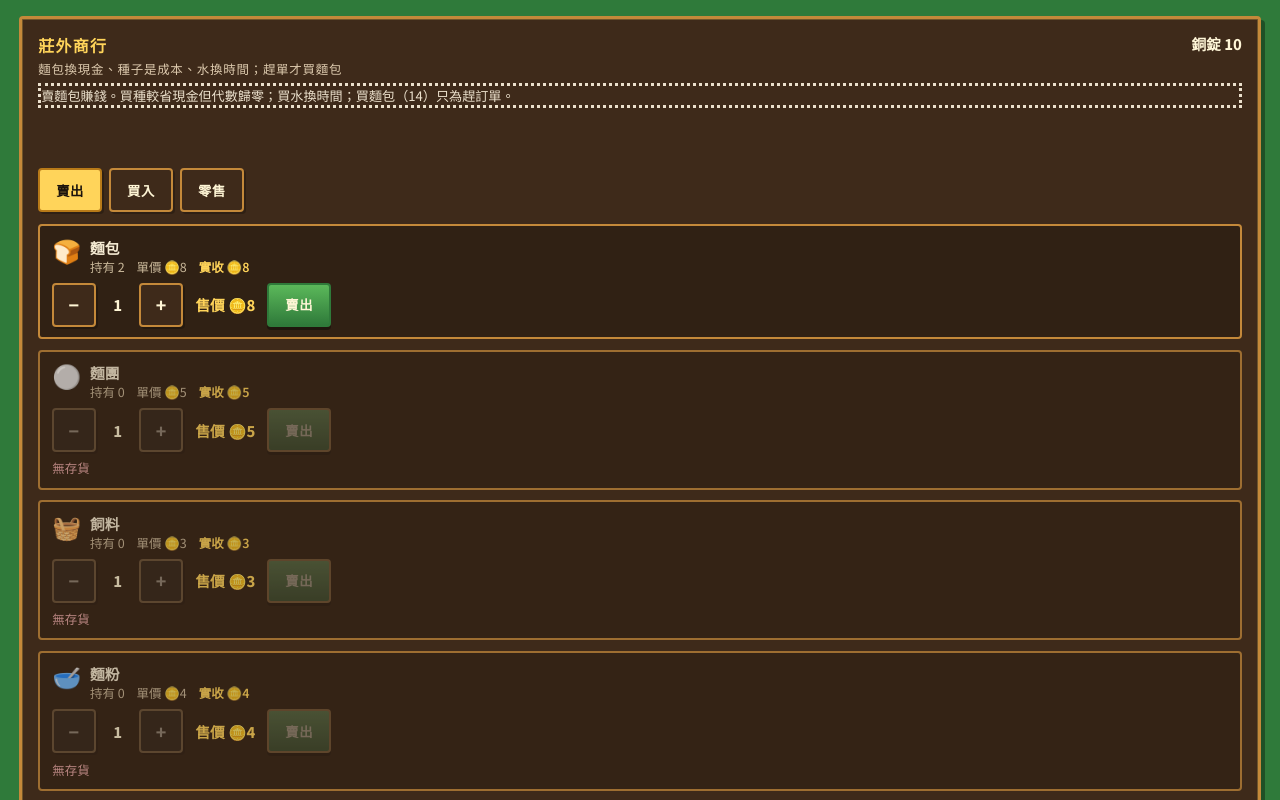
Test case: MarketPanel › shows retail empty states
Step 1. Click the tab with test id "market-tab-retail" → (212, 190), box [180,168,244,212]
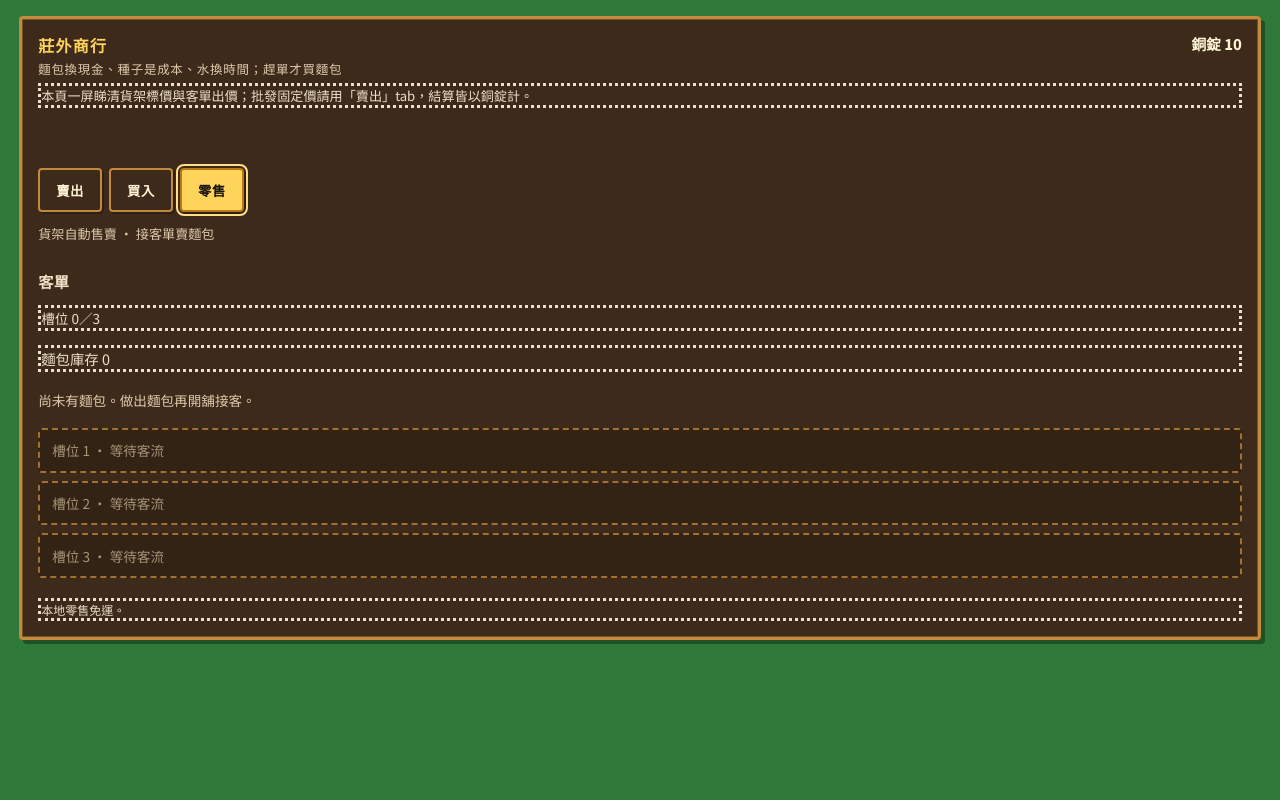
Now the text with test id "retail-empty-stock" reads "尚未有麵包。做出麵包再開舖接客。", box [38,390,256,410]
